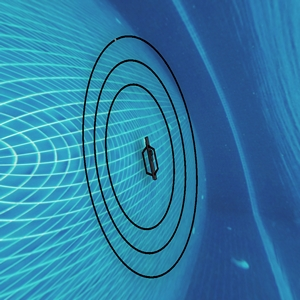circle: (61, 31, 223, 285)
